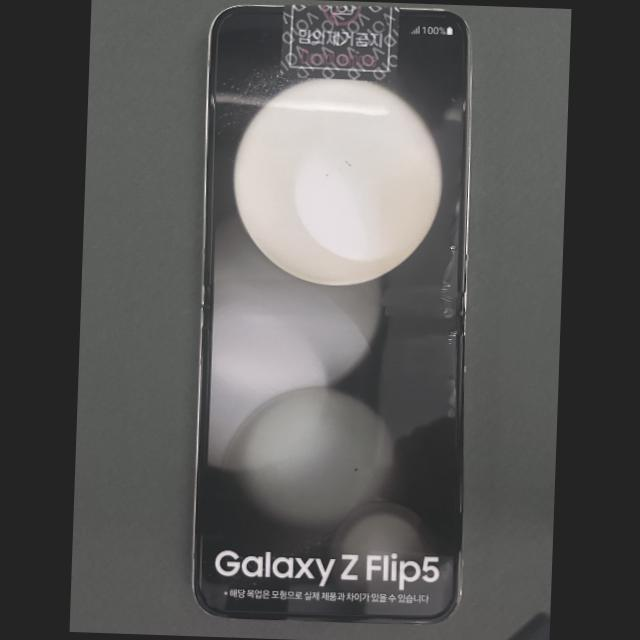phone: (191, 4, 471, 624)
sticker: (281, 3, 400, 81)
